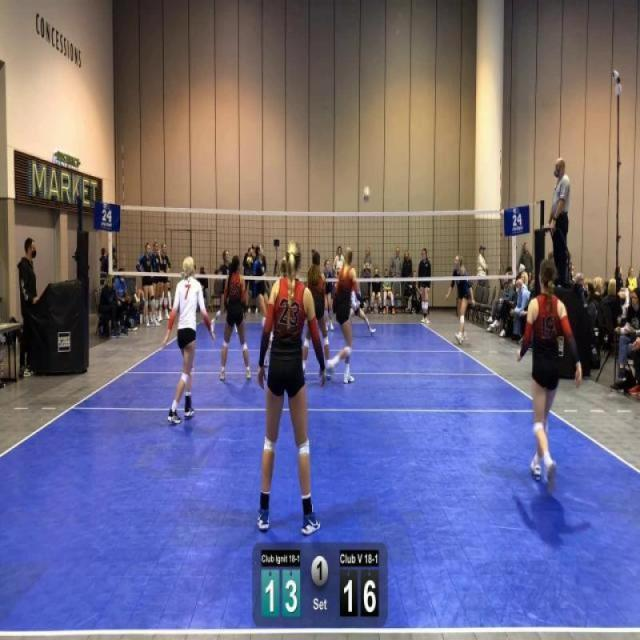volleyball: (362, 185, 370, 202)
